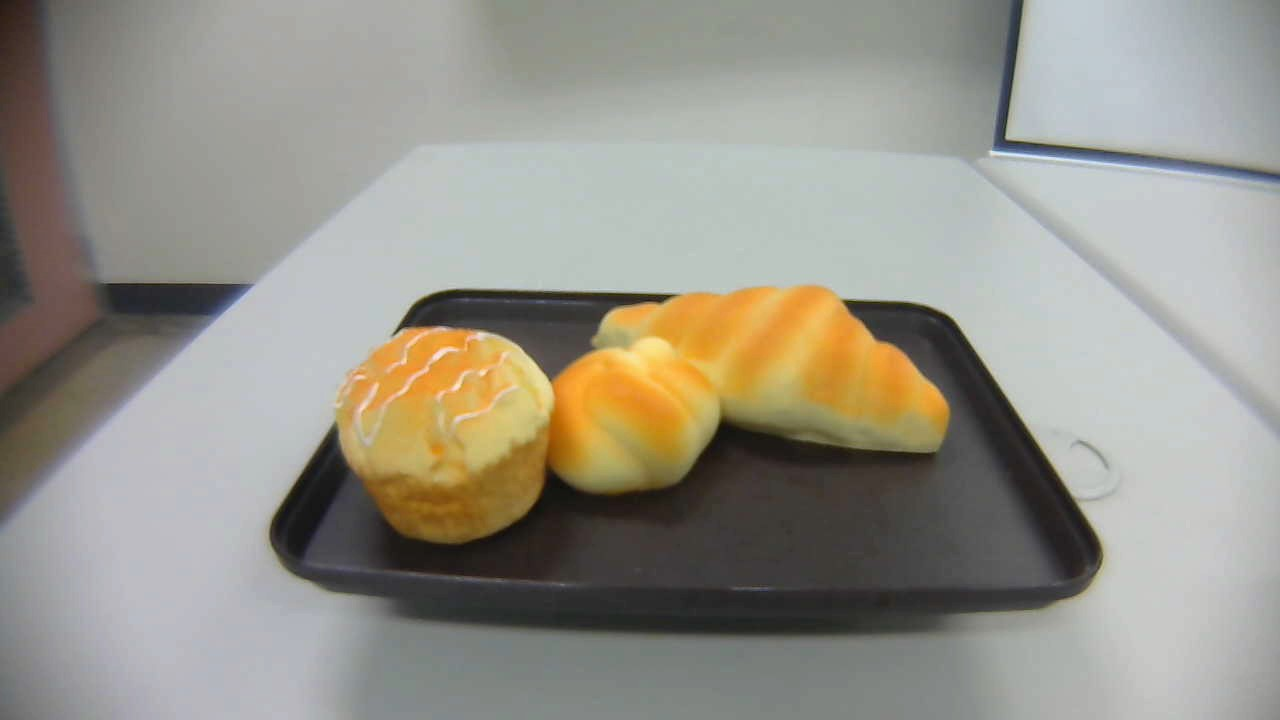croissant: (590, 283, 951, 455)
cupcake: (334, 326, 554, 548)
twist bread: (550, 337, 721, 495)
